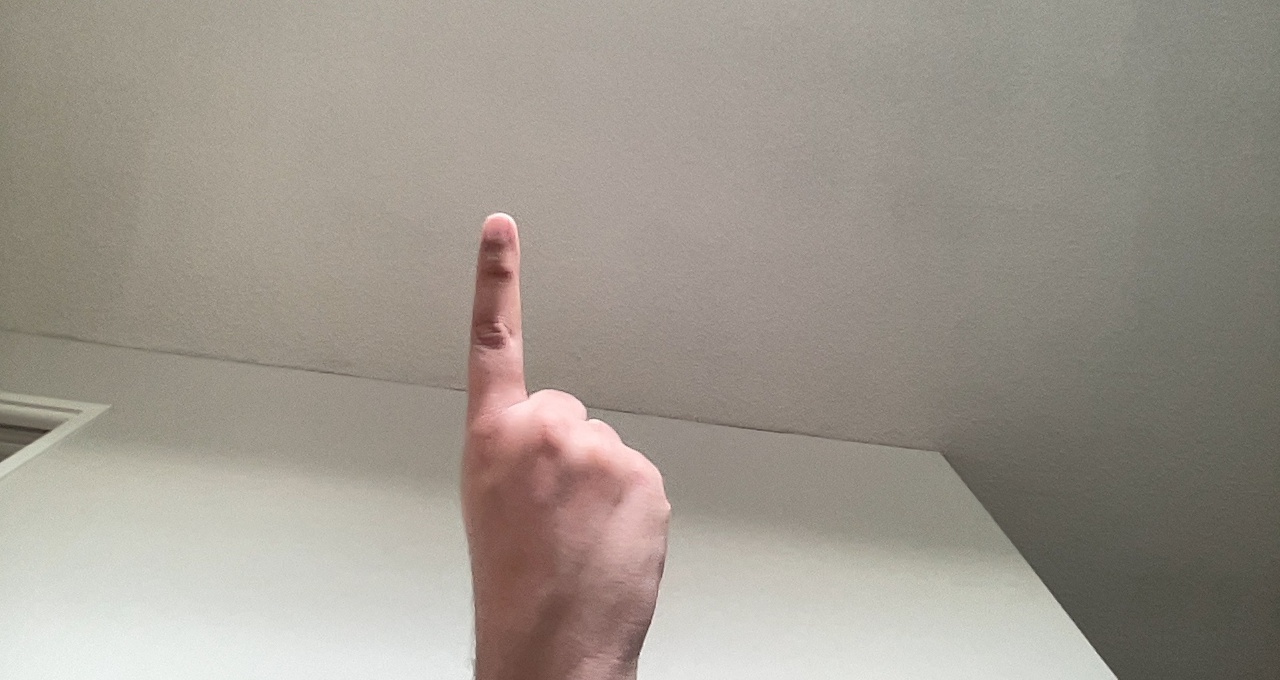fingerup: (457, 204, 686, 642)
